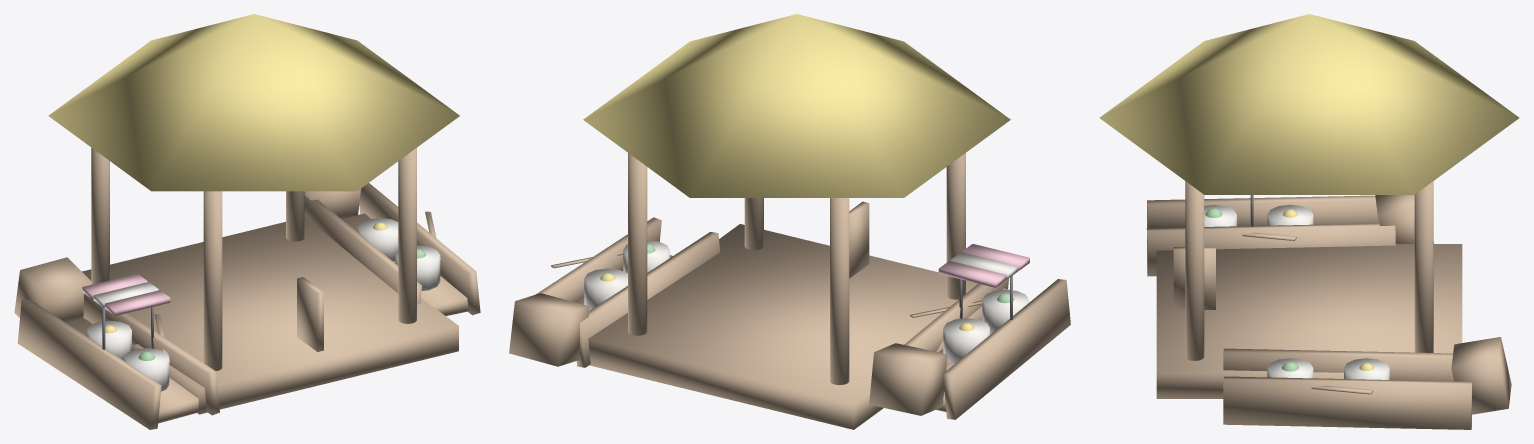
The model's file is floating_market_lv3.glb.
3 views of the same model, side by side, from view 1: azimuth 30°, elevation 25°; view 2: azimuth 150°, elevation 25°; view 3: azimuth 270°, elevation 25° (orthographic). The views are drawn at different scales.
Visible parts, largest first — view 1: roof, deck, canoe1_wall_l, pil1, canoe1_bow, pil2, canoe1_wall_r, canoe2_wall_r, canoe2_wall_l, pil3, board_frame, canoe1_floor (+10 smaller); view 2: roof, deck, canoe1_wall_l, canoe1_bow, canoe2_bow, pil3, canoe2_wall_l, pil4, pil1, canoe2_wall_r, canoe1_wall_r, canoe1_bsk2 (+8 smaller); view 3: roof, deck, canoe2_wall_r, canoe1_wall_r, canoe1_wall_l, canoe2_wall_l, pil2, canoe2_bow, pil4, board_frame, canoe1_bow, canoe2_bsk2 (+3 smaller).
Boxes of the visible parts, <box> form: roof: <box>48,14,459,191</box>; deck: <box>82,217,458,414</box>; canoe1_wall_l: <box>17,299,161,429</box>; pil1: <box>203,191,222,370</box>; canoe1_bow: <box>14,257,91,322</box>; pil2: <box>398,148,416,323</box>; canoe1_wall_r: <box>83,294,219,415</box>; canoe2_wall_r: <box>359,183,480,315</box>; canoe2_wall_l: <box>304,195,421,303</box>; pil3: <box>91,147,109,284</box>; board_frame: <box>297,277,323,351</box>; canoe1_floor: <box>66,318,198,423</box>; roof: <box>583,14,1010,197</box>; deck: <box>588,224,1009,429</box>; canoe1_wall_l: <box>942,279,1070,419</box>; canoe1_bow: <box>869,343,947,415</box>; canoe2_bow: <box>509,293,589,366</box>; pil3: <box>830,198,849,385</box>; canoe2_wall_l: <box>576,232,719,367</box>; pil4: <box>628,153,647,335</box>; pil1: <box>946,153,965,299</box>; canoe2_wall_r: <box>536,217,661,302</box>; canoe1_wall_r: <box>904,278,1008,351</box>; canoe1_bsk2: <box>943,318,989,364</box>; roof: <box>1099,14,1519,194</box>; deck: <box>1156,244,1462,398</box>; canoe2_wall_r: <box>1223,376,1472,429</box>; canoe1_wall_r: <box>1146,223,1395,276</box>; canoe1_wall_l: <box>1146,195,1379,240</box>; canoe2_wall_l: <box>1223,348,1453,381</box>; pil2: <box>1185,181,1204,360</box>; canoe2_bow: <box>1451,337,1511,414</box>; pil4: <box>1414,181,1433,352</box>; board_frame: <box>1173,247,1215,309</box>; canoe1_bow: <box>1375,195,1433,243</box>; canoe2_bsk2: <box>1344,358,1389,379</box>.
Bounding box in the file's own units: 2.47 × 1.85 × 2.2.
